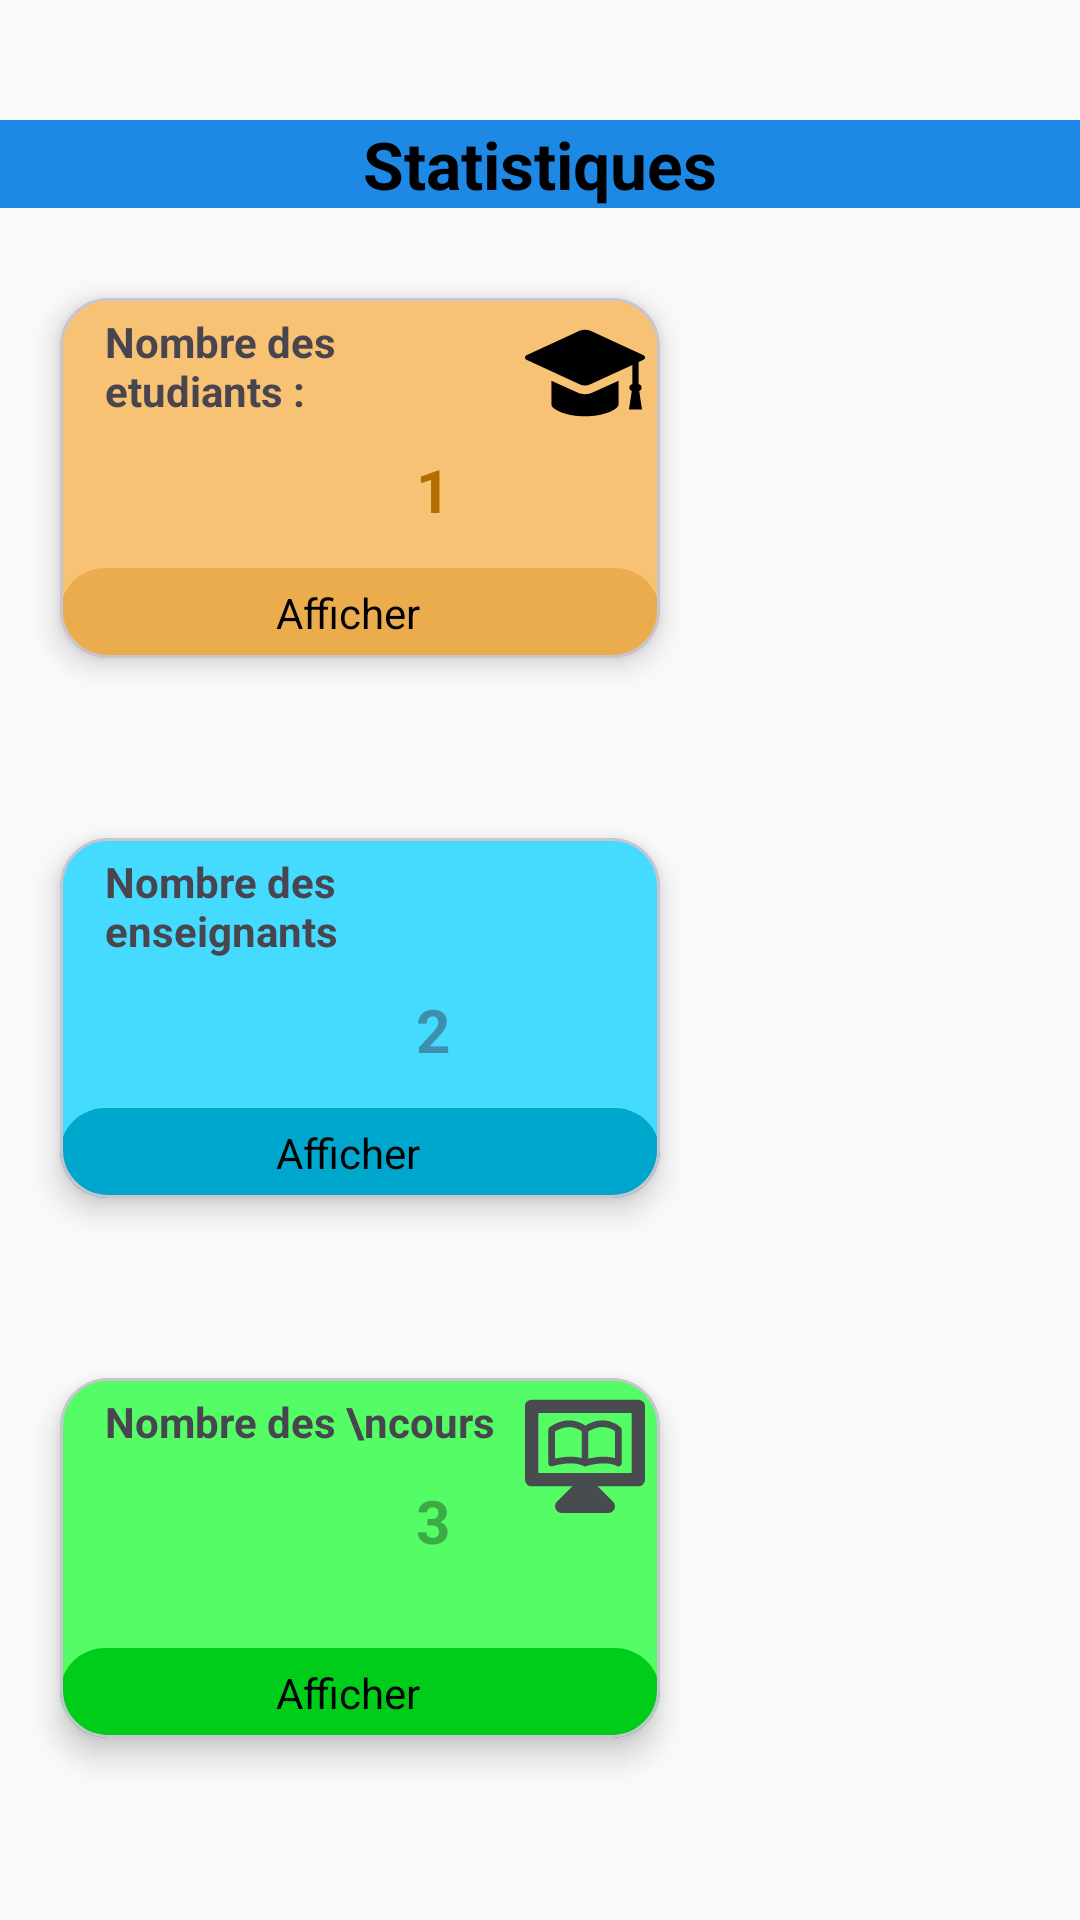

Icon bounding boxes for this 1080px×1920px phone screenshot, format (x1, y1, x2, y2):
course: (525, 1399, 645, 1513)
student: (525, 329, 645, 417)
